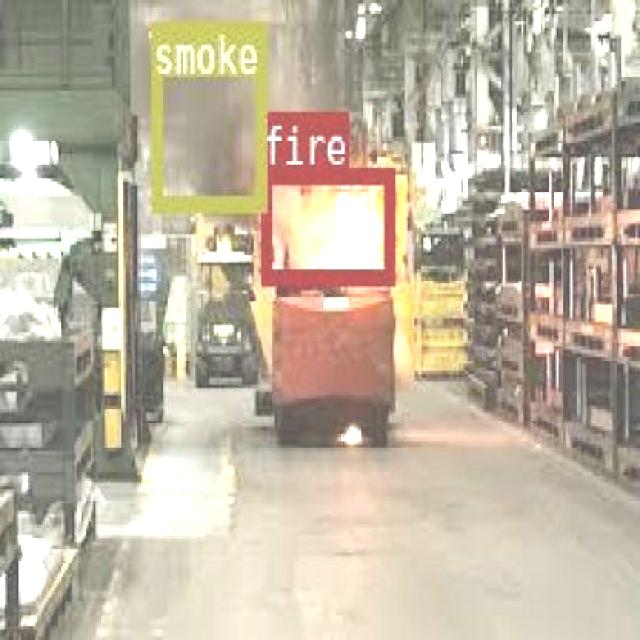fire: (260, 165, 394, 282)
smoke: (149, 18, 265, 208)
